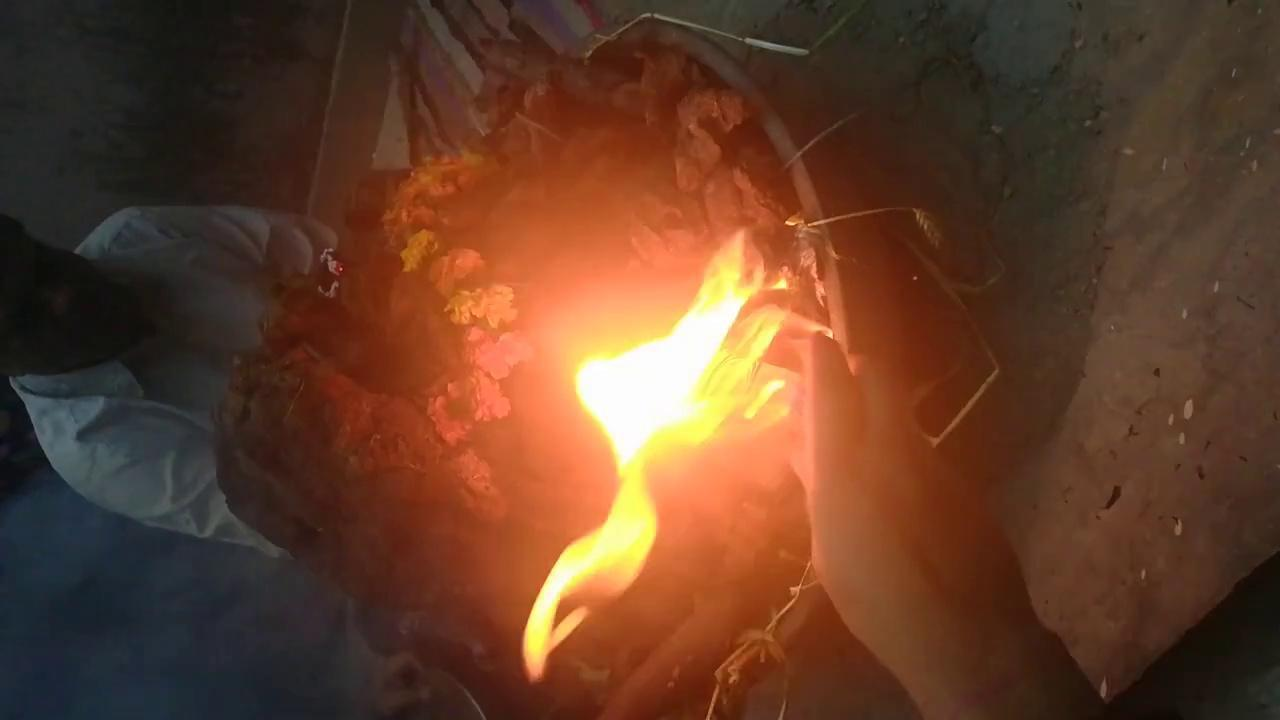fire: (532, 238, 797, 465), (499, 467, 685, 680)
